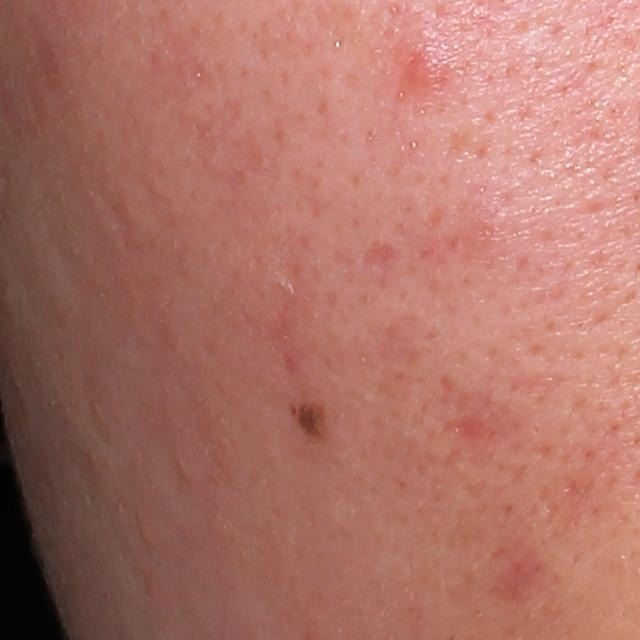atrophic_scar: (361, 241, 405, 292), (439, 413, 504, 446)
nevus: (289, 400, 333, 441)
papule: (399, 52, 447, 88)
